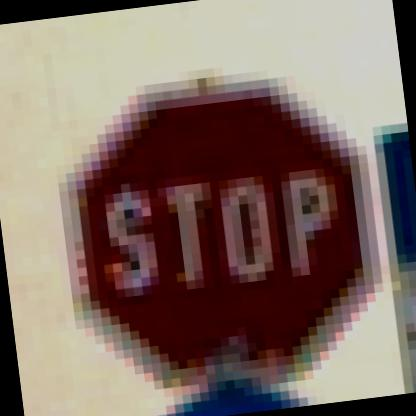stop: (32, 50, 402, 402)
